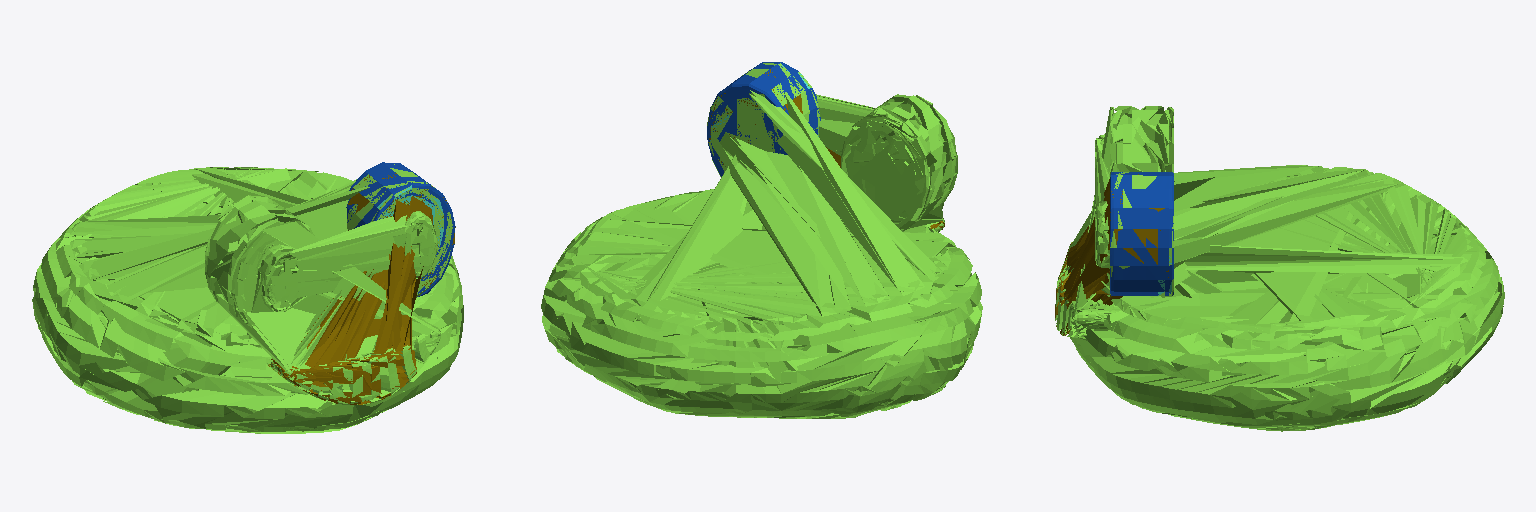
File: poo.obj
The picture shows the model from 3 angles: view 1: azimuth 30°, elevation 25°; view 2: azimuth 150°, elevation 25°; view 3: azimuth 270°, elevation 25°; orthographic projection.
Parts seen in each view (by area): view 1: Group2382, Group56141, ZBrush_defualt_group; view 2: Group2382, ZBrush_defualt_group; view 3: Group2382, ZBrush_defualt_group, Group56141.
Part boxes in pixels (bbox=[...]): Group2382: bbox=[32, 164, 463, 433]; Group56141: bbox=[268, 173, 455, 404]; ZBrush_defualt_group: bbox=[346, 162, 455, 296]; Group2382: bbox=[541, 63, 982, 418]; ZBrush_defualt_group: bbox=[707, 62, 820, 176]; Group2382: bbox=[1055, 106, 1504, 431]; ZBrush_defualt_group: bbox=[1110, 172, 1173, 295]; Group56141: bbox=[1055, 174, 1168, 335].
Size of the model in its own units: 23.79 by 13.69 by 24.14.